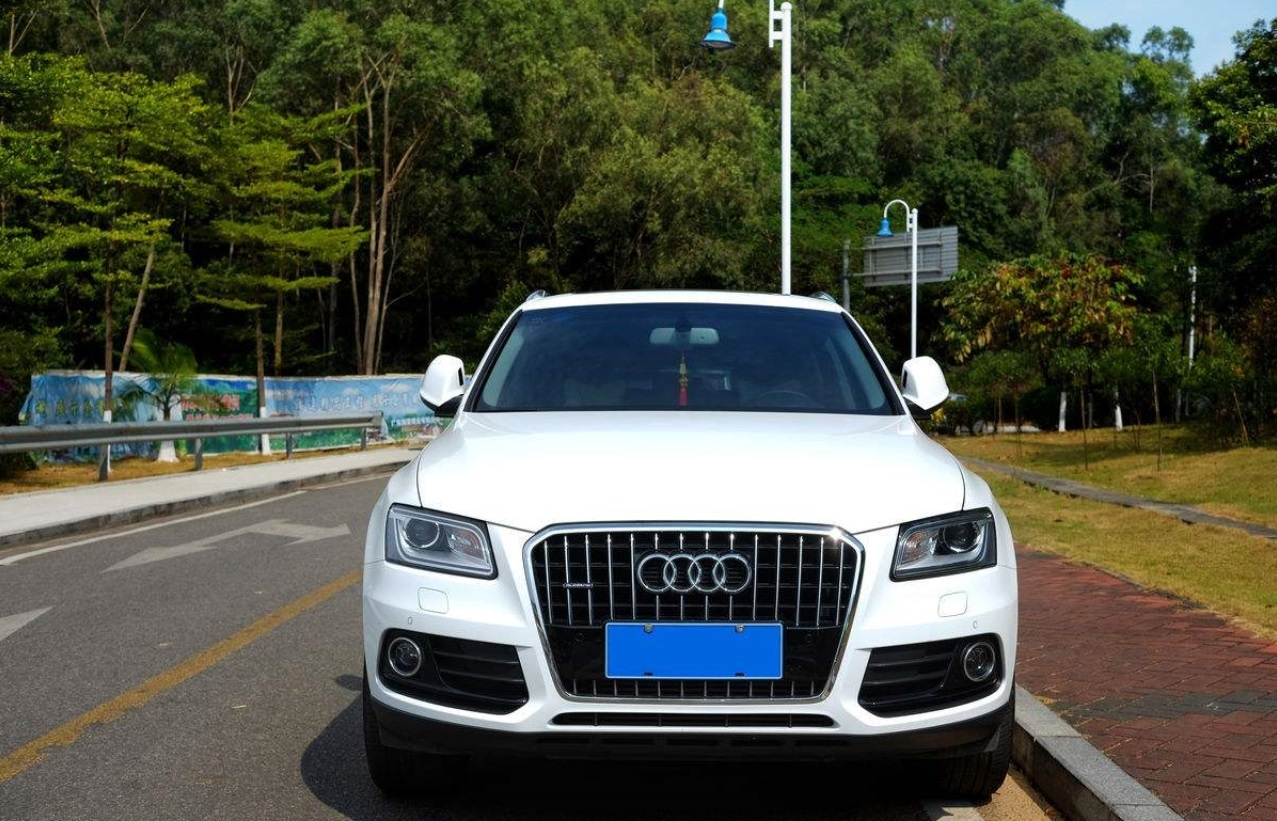family sedan: (338, 263, 1055, 768)
